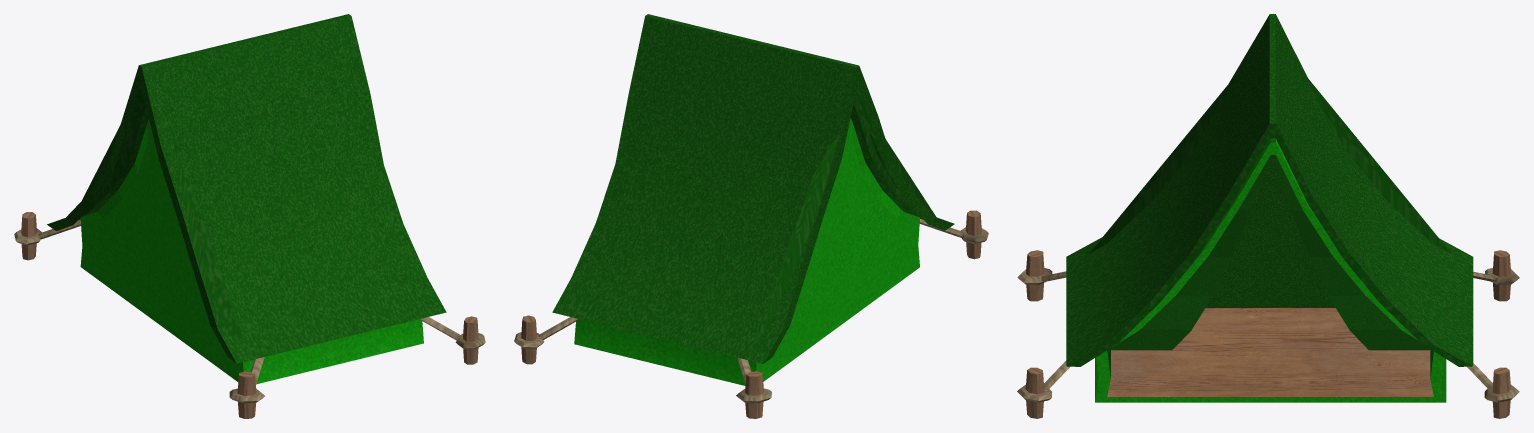
The model's file is new tent export.fbx.
The picture shows the model from 3 angles, left to right: view 1: azimuth 30°, elevation 25°; view 2: azimuth 150°, elevation 25°; view 3: azimuth 270°, elevation 25°; orthographic projection. The views are drawn at different scales.
Visible parts, largest first — view 1: polySurface30; view 2: polySurface30; view 3: polySurface30.
Boxes of the visible parts, x1,y1,x2,y2 form: polySurface30: (14, 14, 485, 418); polySurface30: (514, 14, 988, 418); polySurface30: (1017, 14, 1519, 418).
Size of the model in its own units: 181 by 182 by 290.
